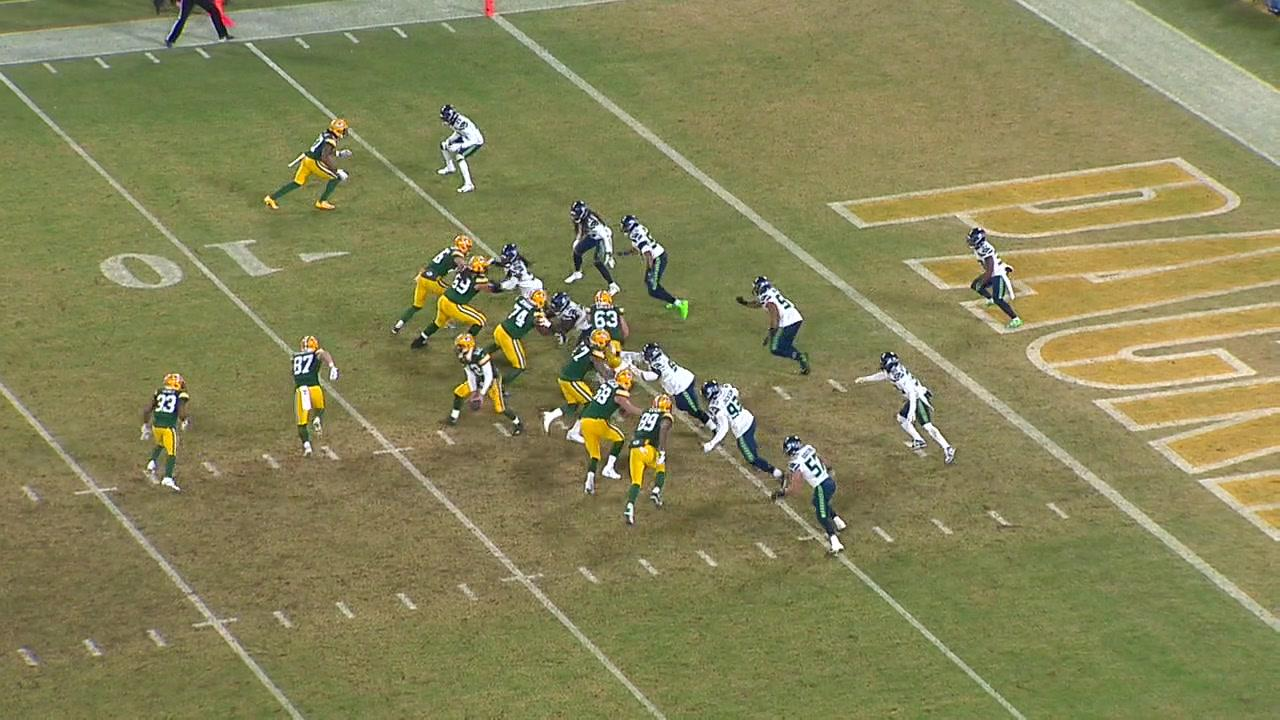defense: (855, 346, 961, 469), (773, 433, 849, 562), (622, 340, 719, 440), (699, 375, 787, 484), (615, 210, 692, 327), (735, 274, 815, 380), (963, 225, 1026, 331), (430, 100, 489, 198), (564, 200, 622, 295), (485, 241, 545, 297), (545, 286, 589, 328)
oline: (406, 251, 499, 356), (472, 283, 551, 398), (538, 325, 615, 439), (577, 367, 638, 499), (581, 289, 630, 359)
qb: (439, 333, 526, 439)
skill: (260, 111, 355, 220), (391, 233, 473, 339), (619, 393, 677, 533), (134, 372, 196, 499), (287, 332, 338, 461)
